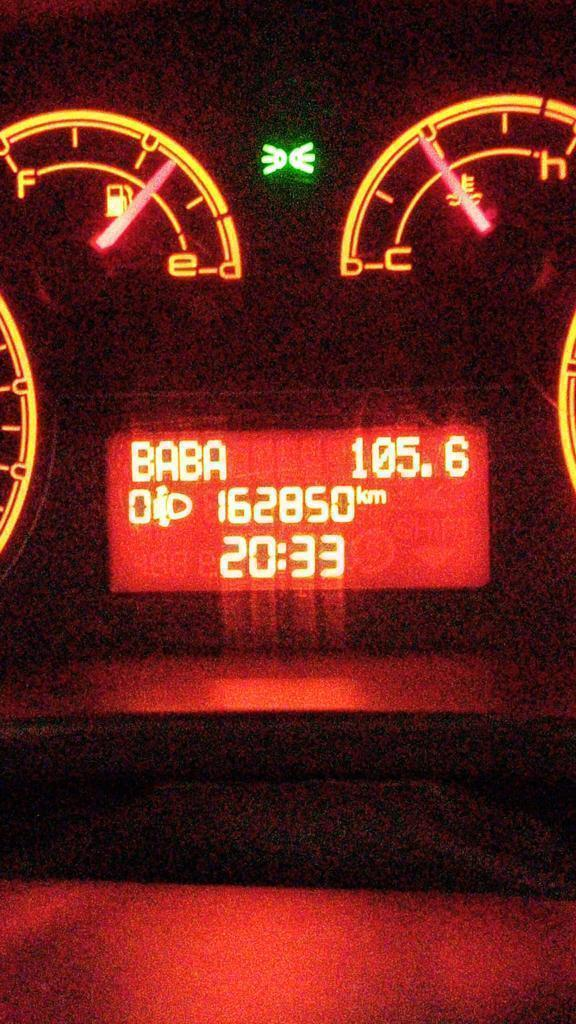,: (420, 461, 435, 481)
0: (247, 535, 274, 578), (369, 435, 395, 479), (127, 486, 153, 524), (330, 484, 354, 523)
1: (349, 435, 368, 479), (216, 488, 226, 524)
2: (218, 533, 245, 578), (253, 485, 278, 525)
3: (319, 533, 347, 578), (288, 533, 316, 578)
5: (395, 434, 420, 479), (305, 485, 329, 523)
6: (443, 434, 470, 480), (227, 485, 252, 525)
8: (278, 484, 302, 524)
X: (202, 437, 227, 481), (154, 439, 178, 482), (130, 439, 154, 482), (179, 438, 202, 481), (276, 540, 287, 573), (368, 487, 388, 505), (355, 483, 368, 505)
odometer: (90, 416, 500, 603)
